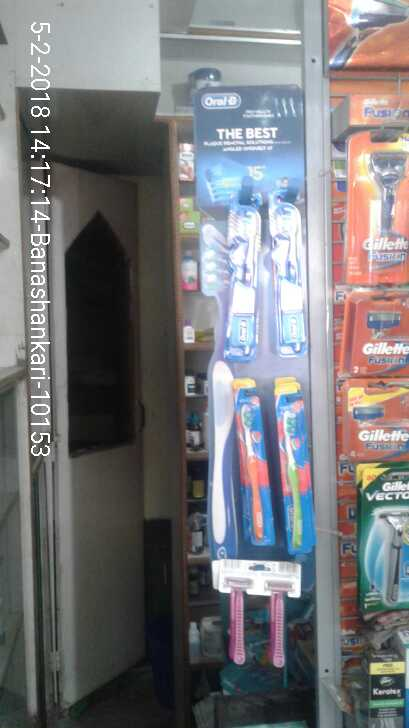beauty: (342, 130, 409, 283), (343, 286, 409, 385), (360, 477, 409, 608), (346, 379, 409, 461)
pharmacy: (230, 383, 276, 549), (265, 197, 311, 362), (225, 199, 262, 362), (277, 394, 310, 556)
